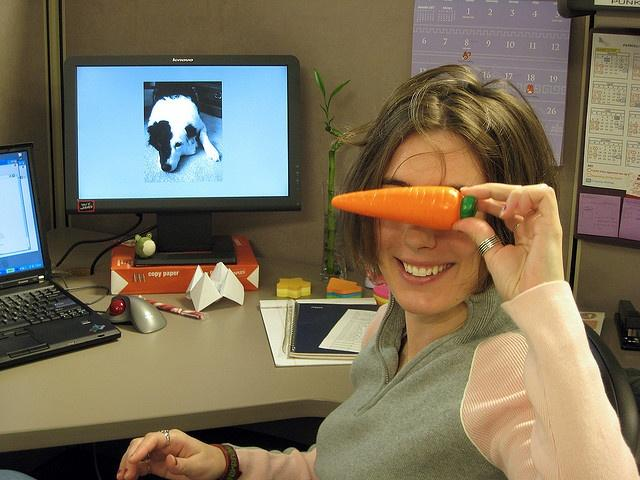AIO PC-Monitor-TV: (62, 54, 301, 219)
